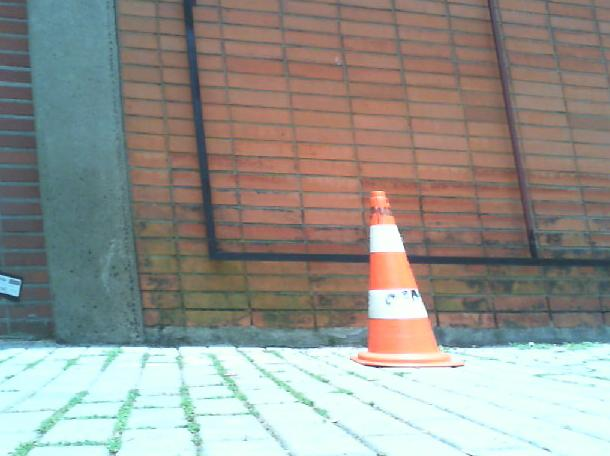0 cone: (350, 191, 463, 368)
